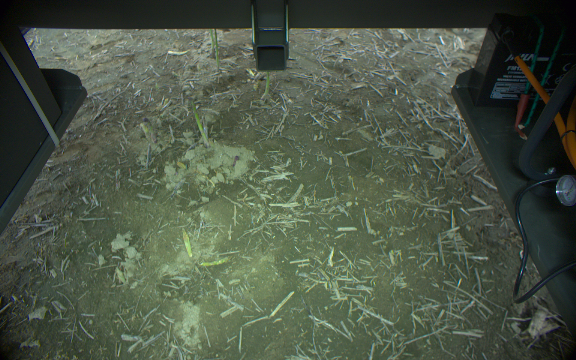aspa: (188, 101, 212, 149), (207, 29, 222, 74), (195, 257, 233, 270), (180, 230, 195, 259), (260, 71, 276, 98)
